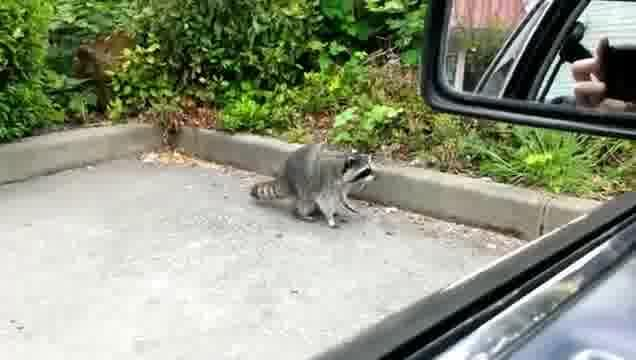raccoon: (249, 144, 379, 227)
